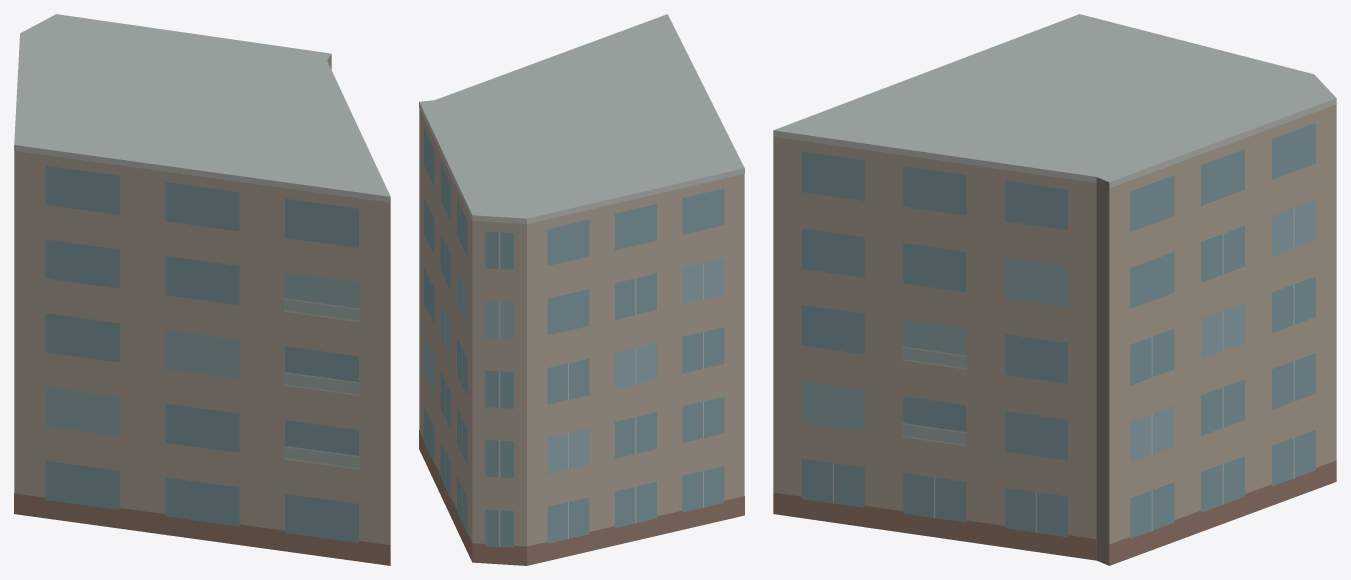
Rendered from survey-upis-32512804.glb.
The picture shows the model from 3 angles, left to right: view 1: azimuth 30°, elevation 25°; view 2: azimuth 150°, elevation 25°; view 3: azimuth 270°, elevation 25°; orthographic projection. The views are drawn at different scales.
Visible parts, largest first — view 1: survey-upis-32512804.tmp; view 2: survey-upis-32512804.tmp; view 3: survey-upis-32512804.tmp.
Boxes of the visible parts, x1,y1,x2,y2 form: survey-upis-32512804.tmp: (14,14,390,565); survey-upis-32512804.tmp: (419,14,744,565); survey-upis-32512804.tmp: (773,14,1336,565).
Bounding box in the file's own units: 14.35 × 15.25 × 20.31.
